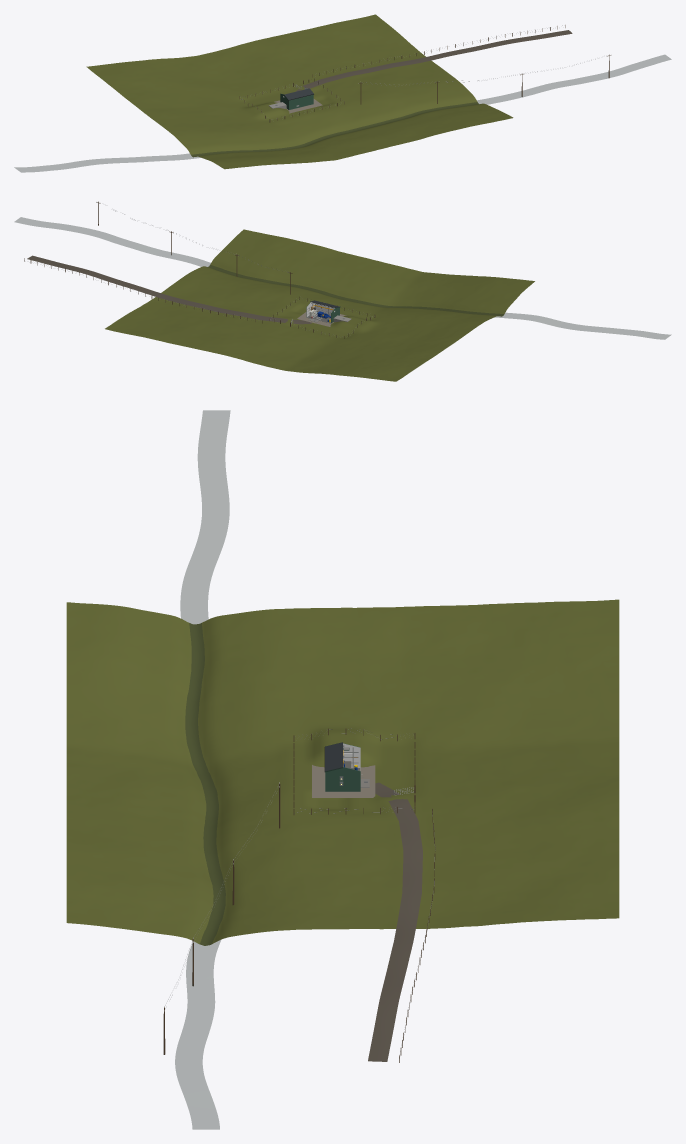
The model's file is bln_powerhouse_cutaway.glb.
3 views of the same model, one above another, from view 1: azimuth 30°, elevation 25°; view 2: azimuth 150°, elevation 25°; view 3: azimuth 270°, elevation 25° (orthographic). The views are drawn at different scales.
Parts seen in each view (by area): view 1: terrain_web, burn_water, track; view 2: terrain_web, burn_water, track; view 3: terrain_web, burn_water, track, gravel_band.
Boxes of the visible parts, x1,y1,x2,y2 form: terrain_web: (86, 14, 513, 169); burn_water: (14, 55, 671, 172); track: (295, 30, 572, 91); terrain_web: (105, 229, 534, 381); burn_water: (15, 217, 670, 339); track: (27, 255, 311, 324); terrain_web: (66, 599, 619, 945); burn_water: (175, 410, 230, 1129); track: (368, 782, 422, 1061); gravel_band: (312, 765, 375, 797).
Size of what is drawn, in the model's own units: 260 by 17.05 by 96.
49 materials, 1 textured.
